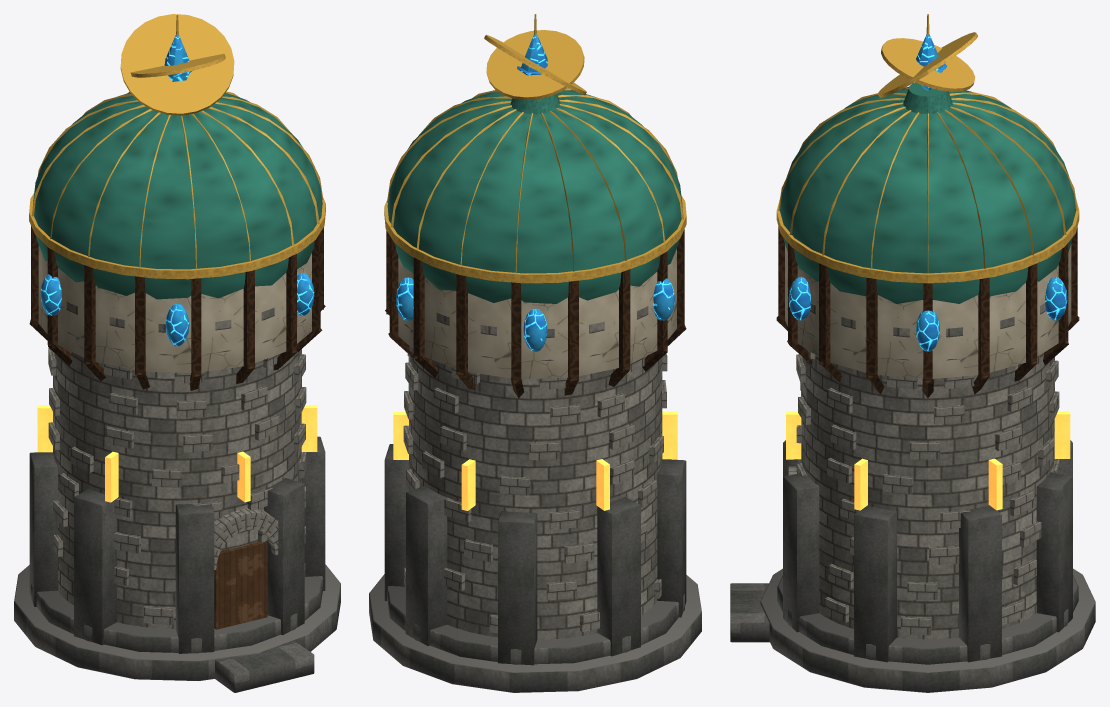
File: bld_apothecary_magic_tower.glb
3 views of the same model, side by side, from view 1: azimuth 30°, elevation 25°; view 2: azimuth 150°, elevation 25°; view 3: azimuth 270°, elevation 25° (orthographic).
Parts seen in each view (by area): view 1: tower_masonry_shaft, copper_observatory_dome, octagonal_plinth_buttresses, golden_armillary_ribs, alchemical_gallery_plaster, gallery_oak_timbers, oak_arch_door, arcane_crystal_spire, warm_leaded_windows; view 2: tower_masonry_shaft, copper_observatory_dome, octagonal_plinth_buttresses, alchemical_gallery_plaster, golden_armillary_ribs, gallery_oak_timbers, arcane_crystal_spire, warm_leaded_windows; view 3: tower_masonry_shaft, copper_observatory_dome, octagonal_plinth_buttresses, alchemical_gallery_plaster, golden_armillary_ribs, gallery_oak_timbers, arcane_crystal_spire, warm_leaded_windows.
Boxes of the visible parts, box(x1,y1,x2,y2) form: tower_masonry_shaft: box(44, 301, 306, 628); copper_observatory_dome: box(32, 92, 322, 299); octagonal_plinth_buttresses: box(14, 436, 340, 692); golden_armillary_ribs: box(29, 14, 325, 279); alchemical_gallery_plaster: box(38, 245, 311, 372); gallery_oak_timbers: box(29, 226, 325, 390); oak_arch_door: box(214, 541, 267, 629); arcane_crystal_spire: box(40, 35, 314, 346); warm_leaded_windows: box(37, 405, 317, 502); tower_masonry_shaft: box(403, 306, 670, 639); copper_observatory_dome: box(387, 90, 682, 303); octagonal_plinth_buttresses: box(369, 444, 701, 692); alchemical_gallery_plaster: box(398, 249, 676, 378); golden_armillary_ribs: box(384, 14, 686, 283); gallery_oak_timbers: box(385, 229, 686, 398); arcane_crystal_spire: box(396, 34, 674, 351); warm_leaded_windows: box(393, 411, 677, 510); tower_masonry_shaft: box(787, 277, 1068, 639); copper_observatory_dome: box(780, 82, 1075, 303); octagonal_plinth_buttresses: box(730, 440, 1095, 692); alchemical_gallery_plaster: box(785, 244, 1071, 378); golden_armillary_ribs: box(776, 14, 1079, 283); gallery_oak_timbers: box(776, 226, 1079, 398); arcane_crystal_spire: box(788, 34, 1067, 351); warm_leaded_windows: box(786, 411, 1070, 510).
Bounding box in the file's own units: 7.8 × 15.6 × 8.5.
9 materials, 9 textured.
